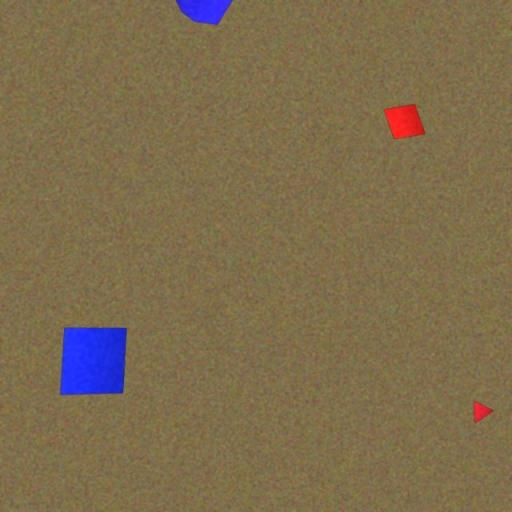BLUE_SQUARE: (59, 326, 127, 396)
RED_SQUARE: (383, 103, 426, 140)
